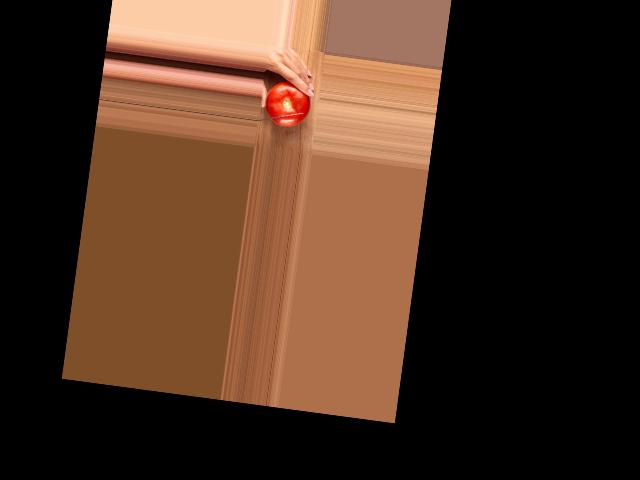tomato: (263, 78, 312, 128)
